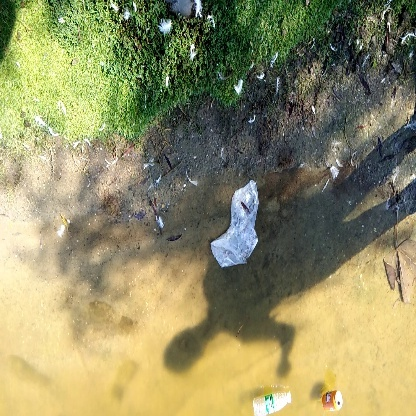bottle: (248, 386, 295, 416)
plastic-bag: (214, 176, 272, 275)
